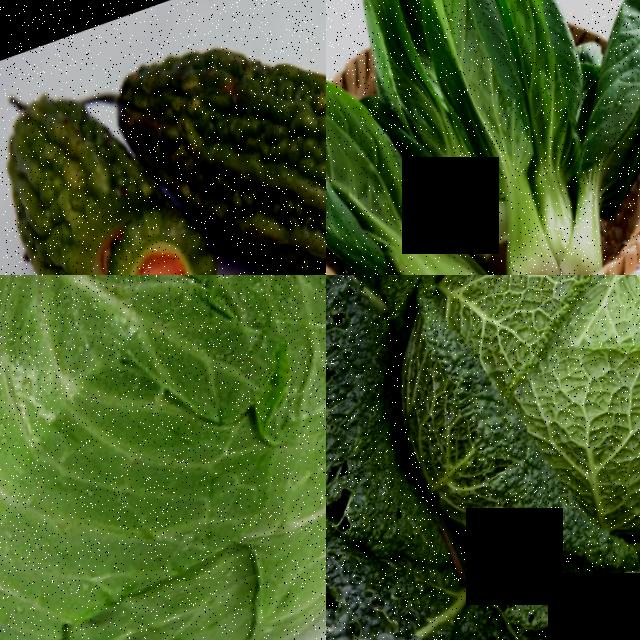bitter gourd: (197, 7, 326, 275), (0, 64, 155, 275)
bok choy: (451, 3, 640, 275), (359, 0, 546, 263), (326, 70, 468, 275)
cabbage: (0, 275, 326, 640), (326, 275, 640, 640)
